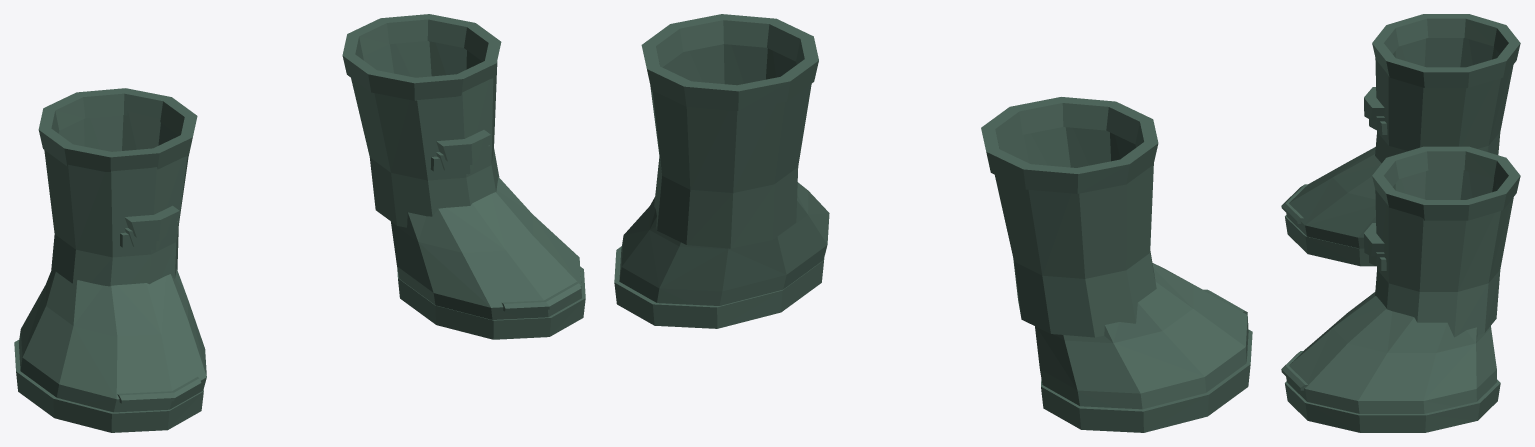
Rendered from leather_feet-male-scaledHide.glb.
The picture shows the model from 3 angles, left to right: view 1: azimuth 30°, elevation 25°; view 2: azimuth 150°, elevation 25°; view 3: azimuth 270°, elevation 25°; orthographic projection. The views are drawn at different scales.
Visible parts, largest first — view 1: leather boot foot -1, leather boot foot 1, leather boot upper 1, leather boot upper -1, Turned boot cuff 1, Turned boot cuff -1, Boot sole -1, Boot sole 1, Lapped hide reinforcement leather boot upper 1 0, Lapped hide reinforcement leather boot upper -1 0, Boot toe welt -1, Boot toe welt 1; view 2: leather boot upper 1, leather boot upper -1, leather boot foot -1, leather boot foot 1, Turned boot cuff -1, Turned boot cuff 1, Boot sole -1, Boot sole 1; view 3: leather boot foot 1, leather boot upper 1, leather boot upper -1, Turned boot cuff -1, Turned boot cuff 1, leather boot foot -1, Boot sole 1, Boot sole -1, Lapped hide reinforcement leather boot upper 1 0, Lapped hide reinforcement leather boot upper -1 0, Boot toe welt 1, Boot toe welt -1.
Part boxes in pixels (<box>): leather boot foot -1: <box>19,269,206,412</box>; leather boot foot 1: <box>391,177,581,319</box>; leather boot upper 1: <box>351,41,499,227</box>; leather boot upper -1: <box>44,110,188,286</box>; Turned boot cuff 1: <box>342,14,501,100</box>; Turned boot cuff -1: <box>38,88,197,171</box>; Boot sole -1: <box>14,340,203,432</box>; Boot sole 1: <box>397,267,585,339</box>; Lapped hide reinforcement leather boot upper 1 0: <box>436,130,490,164</box>; Lapped hide reinforcement leather boot upper -1 0: <box>124,205,179,241</box>; Boot toe welt -1: <box>117,377,201,403</box>; Boot toe welt 1: <box>502,282,581,311</box>; leather boot upper 1: <box>650,44,811,248</box>; leather boot upper -1: <box>995,127,1156,337</box>; leather boot foot -1: <box>1035,263,1248,409</box>; leather boot foot 1: <box>619,182,829,305</box>; Turned boot cuff -1: <box>981,97,1158,193</box>; Turned boot cuff 1: <box>641,14,818,110</box>; Boot sole -1: <box>1041,329,1252,432</box>; Boot sole 1: <box>614,246,824,328</box>; leather boot foot 1: <box>1286,292,1496,413</box>; leather boot upper 1: <box>1375,170,1513,337</box>; leather boot upper -1: <box>1375,38,1513,163</box>; Turned boot cuff -1: <box>1372,14,1520,87</box>; Turned boot cuff 1: <box>1372,146,1520,220</box>; leather boot foot -1: <box>1286,147,1381,248</box>; Boot sole 1: <box>1285,379,1500,432</box>; Boot sole -1: <box>1285,215,1374,266</box>; Lapped hide reinforcement leather boot upper 1 0: <box>1364,223,1384,256</box>; Lapped hide reinforcement leather boot upper -1 0: <box>1364,87,1384,120</box>; Boot toe welt 1: <box>1281,351,1307,390</box>; Boot toe welt -1: <box>1281,184,1307,223</box>.
Bounding box in the file's own units: 2.86 × 1.2 × 1.25.
